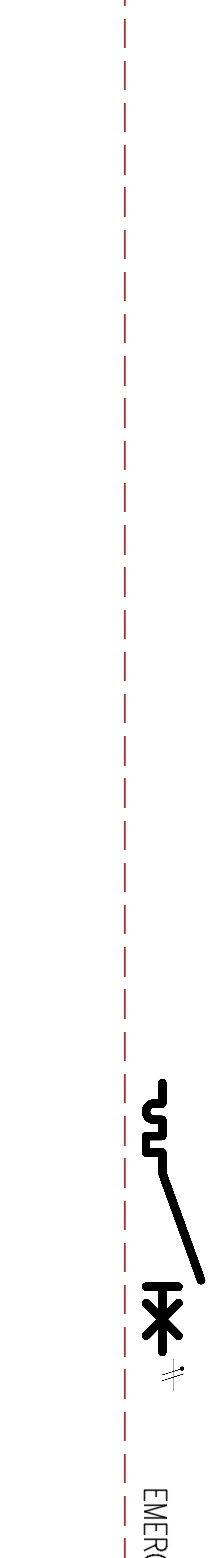interruptor_termomagnetico: (139, 1076, 208, 1359)
